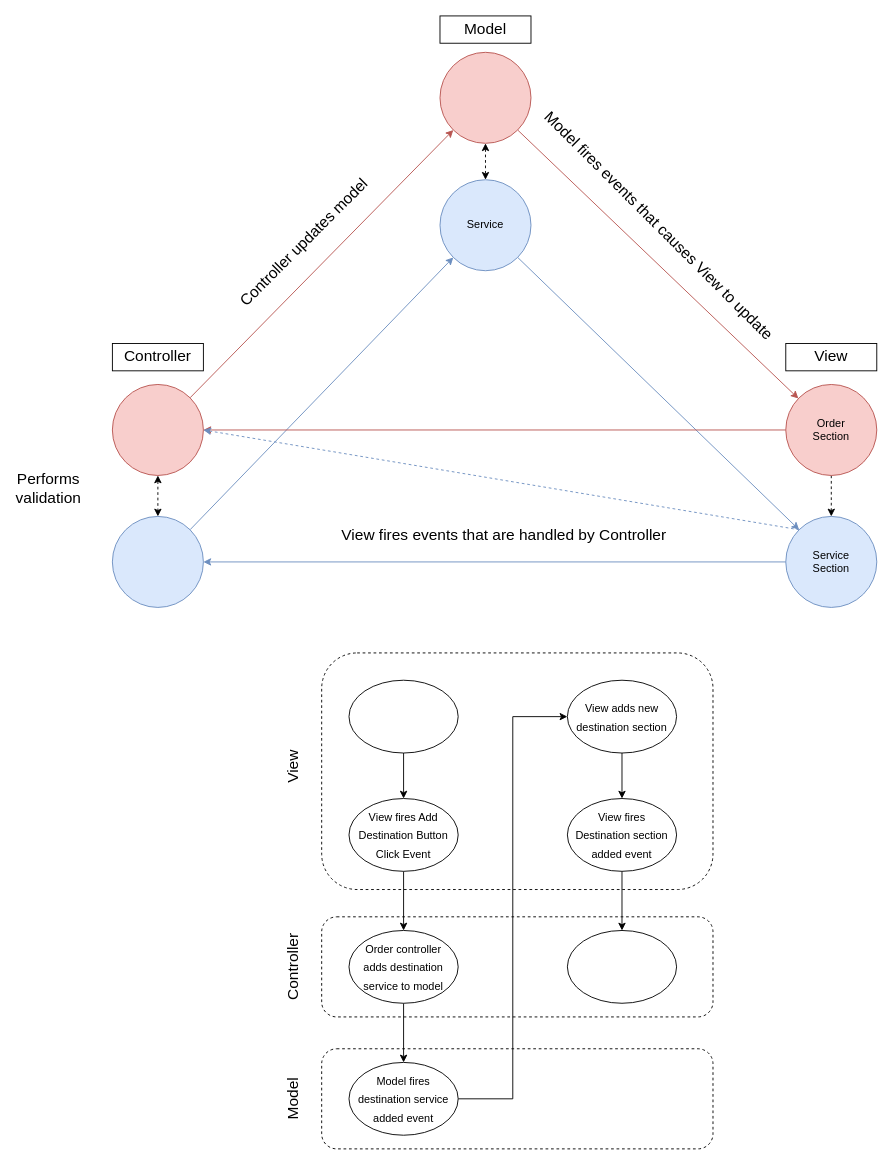
Some shapes in this 893 by 1165 pixel diagram are drawn without their labels. Each missing label, with the centre of its shape:
"Order" goes at [485,97].
"Order Controller" goes at [157,429].
"Order Controller adds new service controller to list of controllers" goes at [621,966].
"Service Controller" goes at [157,561].
"User clicks add Destination Service button" goes at [403,716].
